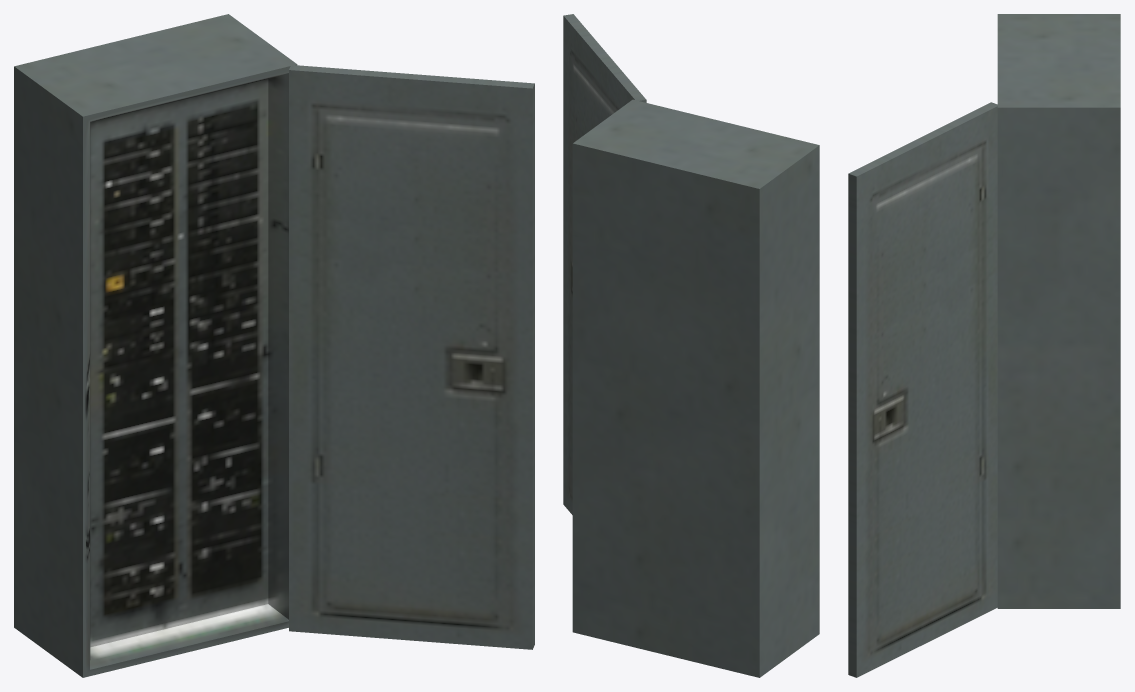
File: Classic64_PanelElectricalOpen_Model.fbx
The picture shows the model from 3 angles, left to right: view 1: azimuth 30°, elevation 25°; view 2: azimuth 150°, elevation 25°; view 3: azimuth 270°, elevation 25°; orthographic projection. The views are drawn at different scales.
Visible parts, largest first — view 1: Classic64_PanelElectricalOpen_Part001, Classic64_PanelElectricalOpen_Part002, Classic64_PanelElectricalOpen_Part000; view 2: Classic64_PanelElectricalOpen_Part000, Classic64_PanelElectricalOpen_Part001; view 3: Classic64_PanelElectricalOpen_Part001, Classic64_PanelElectricalOpen_Part000.
Part boxes in pixels (x1=…): Classic64_PanelElectricalOpen_Part001: x1=289, y1=65, x2=534, y2=649; Classic64_PanelElectricalOpen_Part002: x1=83, y1=64, x2=297, y2=677; Classic64_PanelElectricalOpen_Part000: x1=14, y1=14, x2=296, y2=677; Classic64_PanelElectricalOpen_Part000: x1=572, y1=99, x2=819, y2=677; Classic64_PanelElectricalOpen_Part001: x1=563, y1=14, x2=646, y2=514; Classic64_PanelElectricalOpen_Part001: x1=848, y1=102, x2=998, y2=677; Classic64_PanelElectricalOpen_Part000: x1=997, y1=14, x2=1120, y2=608.
Size of the model in its own units: 0.318 by 0.4572 by 0.2251.
Materials: 3 (3 with a texture image).
